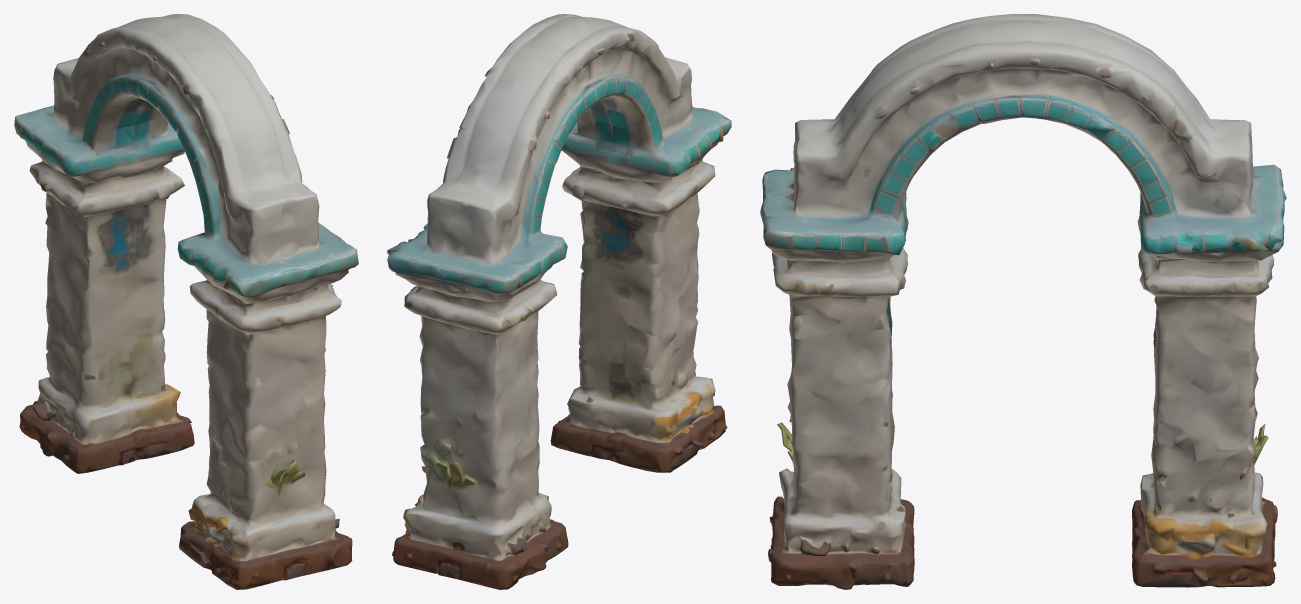
The model's file is coastal-arch.glb.
3 views of the same model, side by side, from view 1: azimuth 30°, elevation 25°; view 2: azimuth 150°, elevation 25°; view 3: azimuth 270°, elevation 25° (orthographic). The views are drawn at different scales.
Parts seen in each view (by area): view 1: tripo_node_f1d3b259-14ae-4c47-b681-0a1a46f474dc; view 2: tripo_node_f1d3b259-14ae-4c47-b681-0a1a46f474dc; view 3: tripo_node_f1d3b259-14ae-4c47-b681-0a1a46f474dc.
Boxes of the visible parts, box(x1,y1,x2,y2) form: tripo_node_f1d3b259-14ae-4c47-b681-0a1a46f474dc: box(14, 14, 358, 589); tripo_node_f1d3b259-14ae-4c47-b681-0a1a46f474dc: box(387, 14, 731, 589); tripo_node_f1d3b259-14ae-4c47-b681-0a1a46f474dc: box(760, 14, 1286, 589).
Bounding box in the file's own units: 0.3012 × 1 × 0.9042.
Materials: 1 (1 with a texture image).
